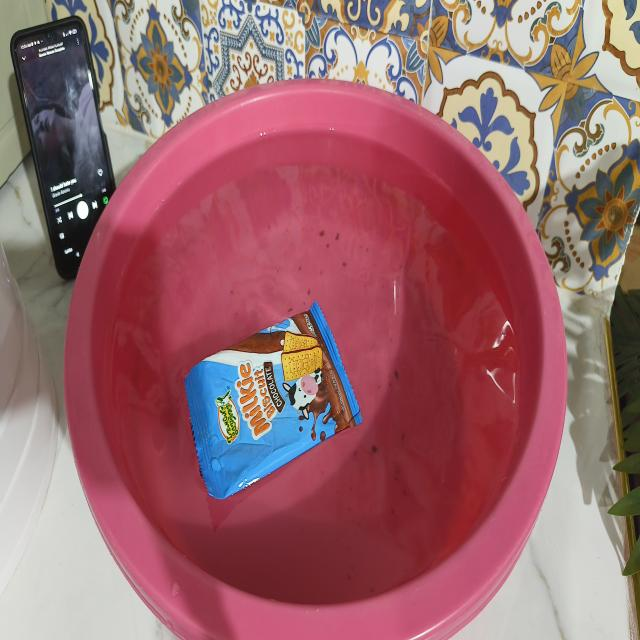Plastic Wrapper: (185, 302, 362, 499)
